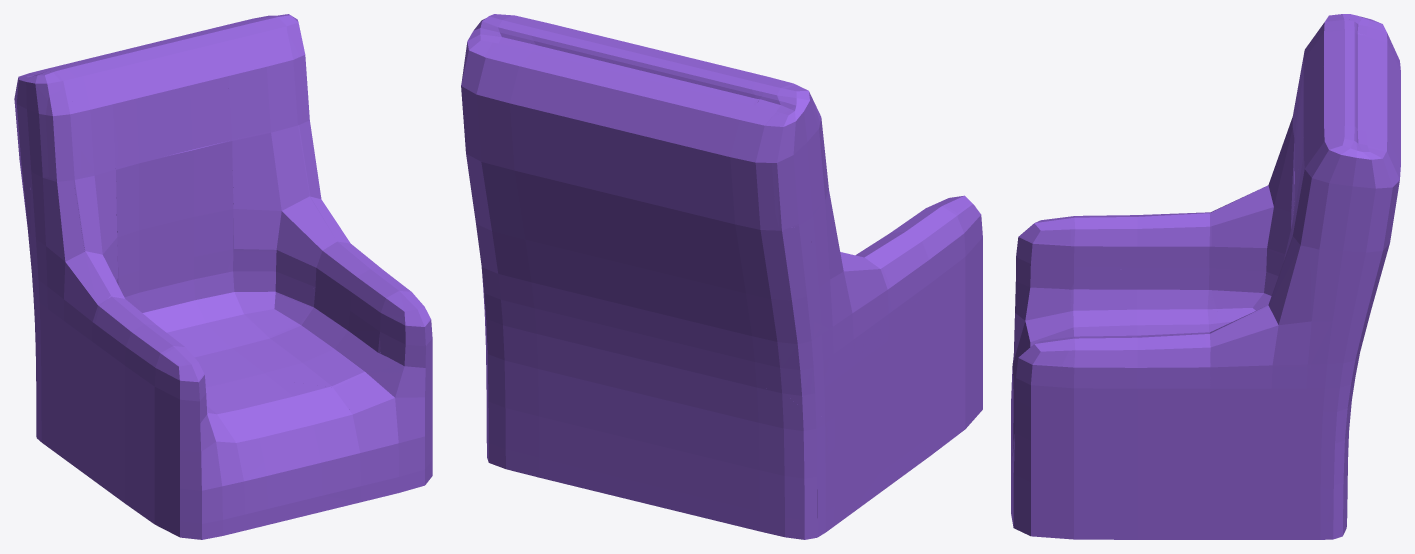
Rendered from BrokenCouch.fbx.
3 renders of one model, left to right at view 1: azimuth 30°, elevation 25°; view 2: azimuth 150°, elevation 25°; view 3: azimuth 270°, elevation 25°, orthographic. The views are drawn at different scales.
Visible parts, largest first — view 1: CouchModel, BrokenCouchModel_cell.055, BrokenCouchModel_cell.068, BrokenCouchModel_cell, BrokenCouchModel_cell.021, BrokenCouchModel_cell.035, BrokenCouchModel_cell.036, BrokenCouchModel_cell.081, BrokenCouchModel_cell.076, BrokenCouchModel_cell.065, BrokenCouchModel_cell.030, BrokenCouchModel_cell.033 (+27 smaller); view 2: CouchModel, BrokenCouchModel_cell.021, BrokenCouchModel_cell.072, BrokenCouchModel_cell.035, BrokenCouchModel_cell.003, BrokenCouchModel_cell.010, BrokenCouchModel_cell.041, BrokenCouchModel_cell.007, BrokenCouchModel_cell.025, BrokenCouchModel_cell.058, BrokenCouchModel_cell.079, BrokenCouchModel_cell.054 (+12 smaller); view 3: CouchModel, BrokenCouchModel_cell.035, BrokenCouchModel_cell.029, BrokenCouchModel_cell.062, BrokenCouchModel_cell.010, BrokenCouchModel_cell.033, BrokenCouchModel_cell.014, BrokenCouchModel_cell.056, BrokenCouchModel_cell.049, BrokenCouchModel_cell.028, BrokenCouchModel_cell.011, BrokenCouchModel_cell.016 (+18 smaller).
Part boxes in pixels (<box>): CouchModel: <box>14,14,432,539</box>; BrokenCouchModel_cell.055: <box>232,124,336,266</box>; BrokenCouchModel_cell.068: <box>162,141,233,288</box>; BrokenCouchModel_cell: <box>143,41,231,156</box>; BrokenCouchModel_cell.021: <box>30,175,105,344</box>; BrokenCouchModel_cell.035: <box>84,345,259,465</box>; BrokenCouchModel_cell.036: <box>115,156,162,307</box>; BrokenCouchModel_cell.081: <box>142,281,268,363</box>; BrokenCouchModel_cell.076: <box>222,31,295,139</box>; BrokenCouchModel_cell.065: <box>243,380,348,469</box>; BrokenCouchModel_cell.030: <box>152,405,200,491</box>; BrokenCouchModel_cell.033: <box>243,308,366,387</box>; CouchModel: <box>461,14,982,537</box>; BrokenCouchModel_cell.021: <box>811,188,891,340</box>; BrokenCouchModel_cell.072: <box>730,384,829,478</box>; BrokenCouchModel_cell.035: <box>879,266,961,415</box>; BrokenCouchModel_cell.003: <box>765,102,826,228</box>; BrokenCouchModel_cell.010: <box>855,205,960,310</box>; BrokenCouchModel_cell.041: <box>485,23,602,103</box>; BrokenCouchModel_cell.007: <box>833,402,887,526</box>; BrokenCouchModel_cell.025: <box>572,39,690,104</box>; BrokenCouchModel_cell.058: <box>653,58,739,114</box>; BrokenCouchModel_cell.079: <box>778,469,816,539</box>; BrokenCouchModel_cell.054: <box>735,220,811,344</box>; CouchModel: <box>1011,14,1400,539</box>; BrokenCouchModel_cell.035: <box>1070,269,1218,336</box>; BrokenCouchModel_cell.029: <box>1070,477,1211,539</box>; BrokenCouchModel_cell.062: <box>1061,334,1211,433</box>; BrokenCouchModel_cell.010: <box>1070,213,1211,269</box>; BrokenCouchModel_cell.033: <box>1070,432,1211,476</box>; BrokenCouchModel_cell.014: <box>1205,236,1310,367</box>; BrokenCouchModel_cell.056: <box>1212,477,1306,539</box>; BrokenCouchModel_cell.049: <box>1296,139,1387,252</box>; BrokenCouchModel_cell.028: <box>1212,367,1324,433</box>; BrokenCouchModel_cell.011: <box>1212,128,1294,256</box>; BrokenCouchModel_cell.016: <box>1259,403,1334,486</box>.
Size of the model in its own units: 200 by 257 by 232.
